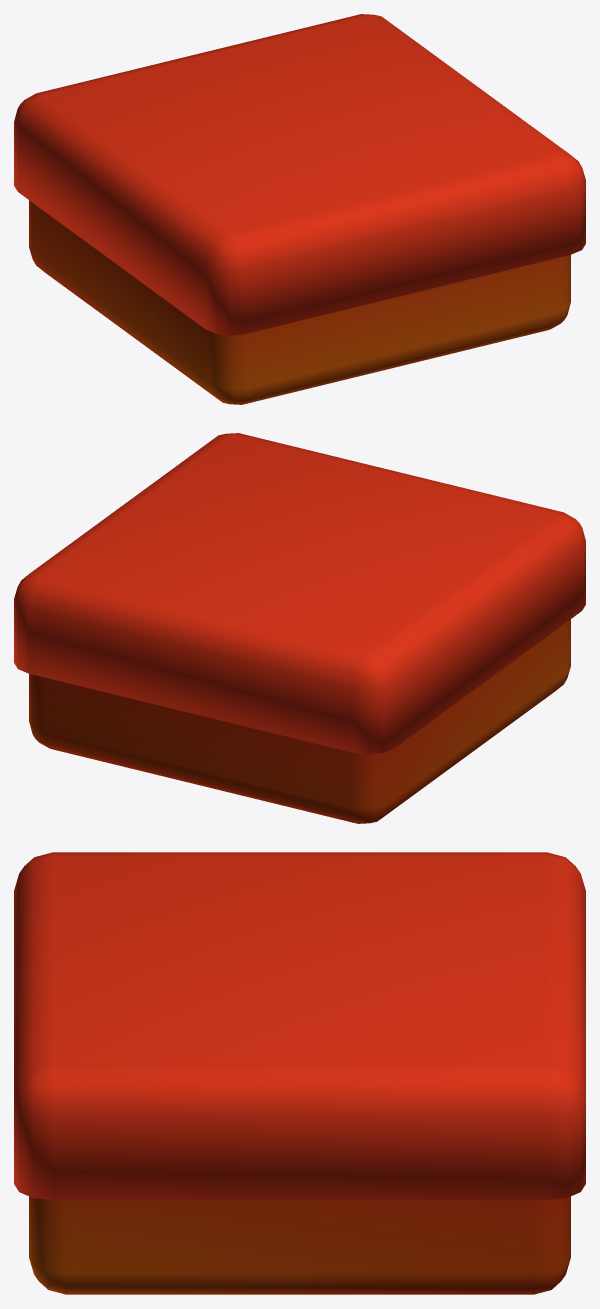
Rendered from trap_platformred.glb.
3 renders of one model, top to bottom at view 1: azimuth 30°, elevation 25°; view 2: azimuth 150°, elevation 25°; view 3: azimuth 270°, elevation 25°, orthographic. The views are drawn at different scales.
Visible parts, largest first — view 1: Cube.015_visual; view 2: Cube.015_visual; view 3: Cube.015_visual.
Boxes of the visible parts, x1,y1,x2,y2 form: Cube.015_visual: (14, 14, 585, 404); Cube.015_visual: (14, 433, 585, 823); Cube.015_visual: (14, 852, 585, 1294).
Size of what is drawn, in the model's own units: 1.42 by 0.634 by 1.42.
1 material, 1 textured.
